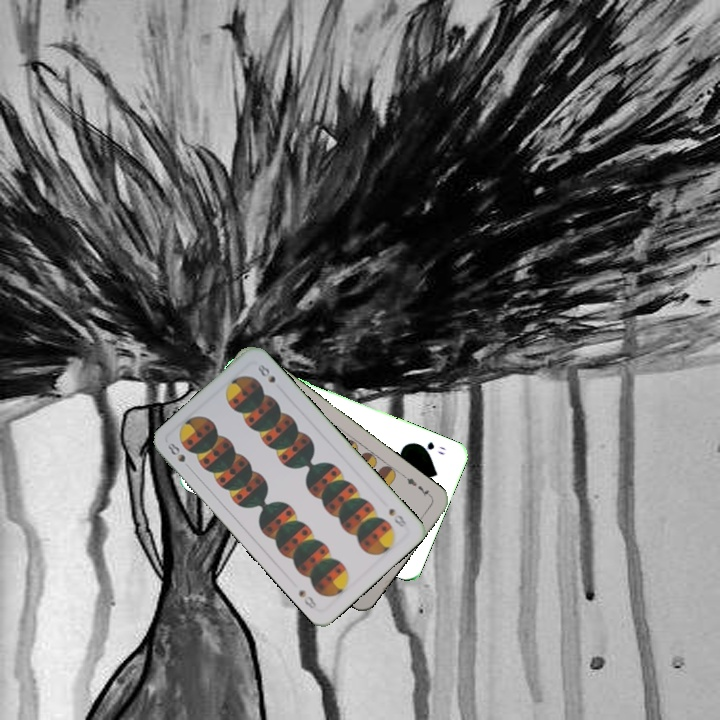E7: (400, 471, 435, 500)
GO: (413, 438, 448, 458)
S8: (164, 438, 188, 465), (385, 504, 409, 530)
